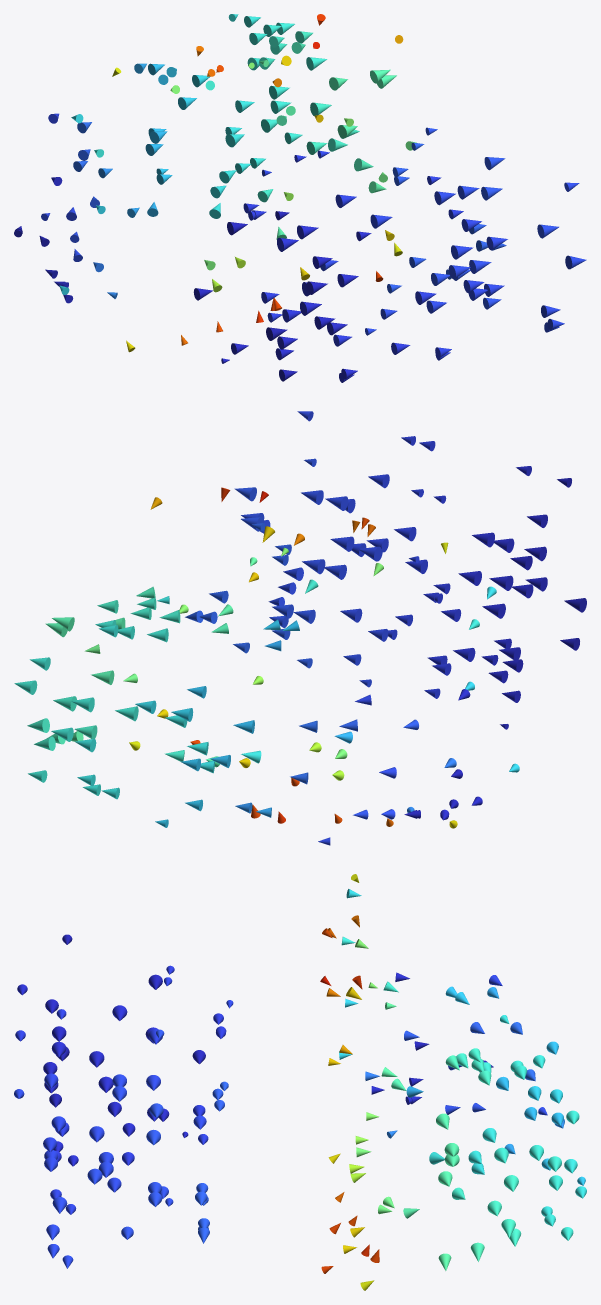
Rendered from LineasCorrienteN2-H2O_mh2-6.88_V-0.8.glb.
3 views of the same model, one above another, from view 1: azimuth 30°, elevation 25°; view 2: azimuth 150°, elevation 25°; view 3: azimuth 270°, elevation 25° (orthographic). The views are drawn at different scales.
Size of the model in its own units: 0.000976 by 0.00071 by 0.0012.
2 materials, 2 textured.
